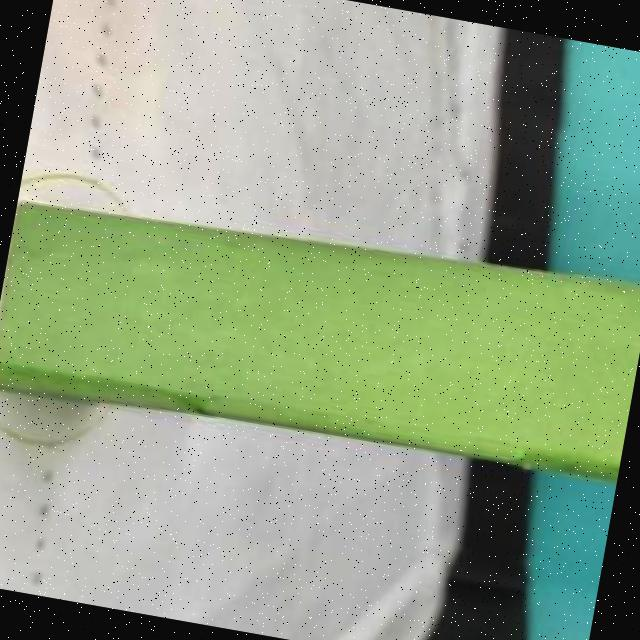greenbox: (0, 172, 640, 503)
